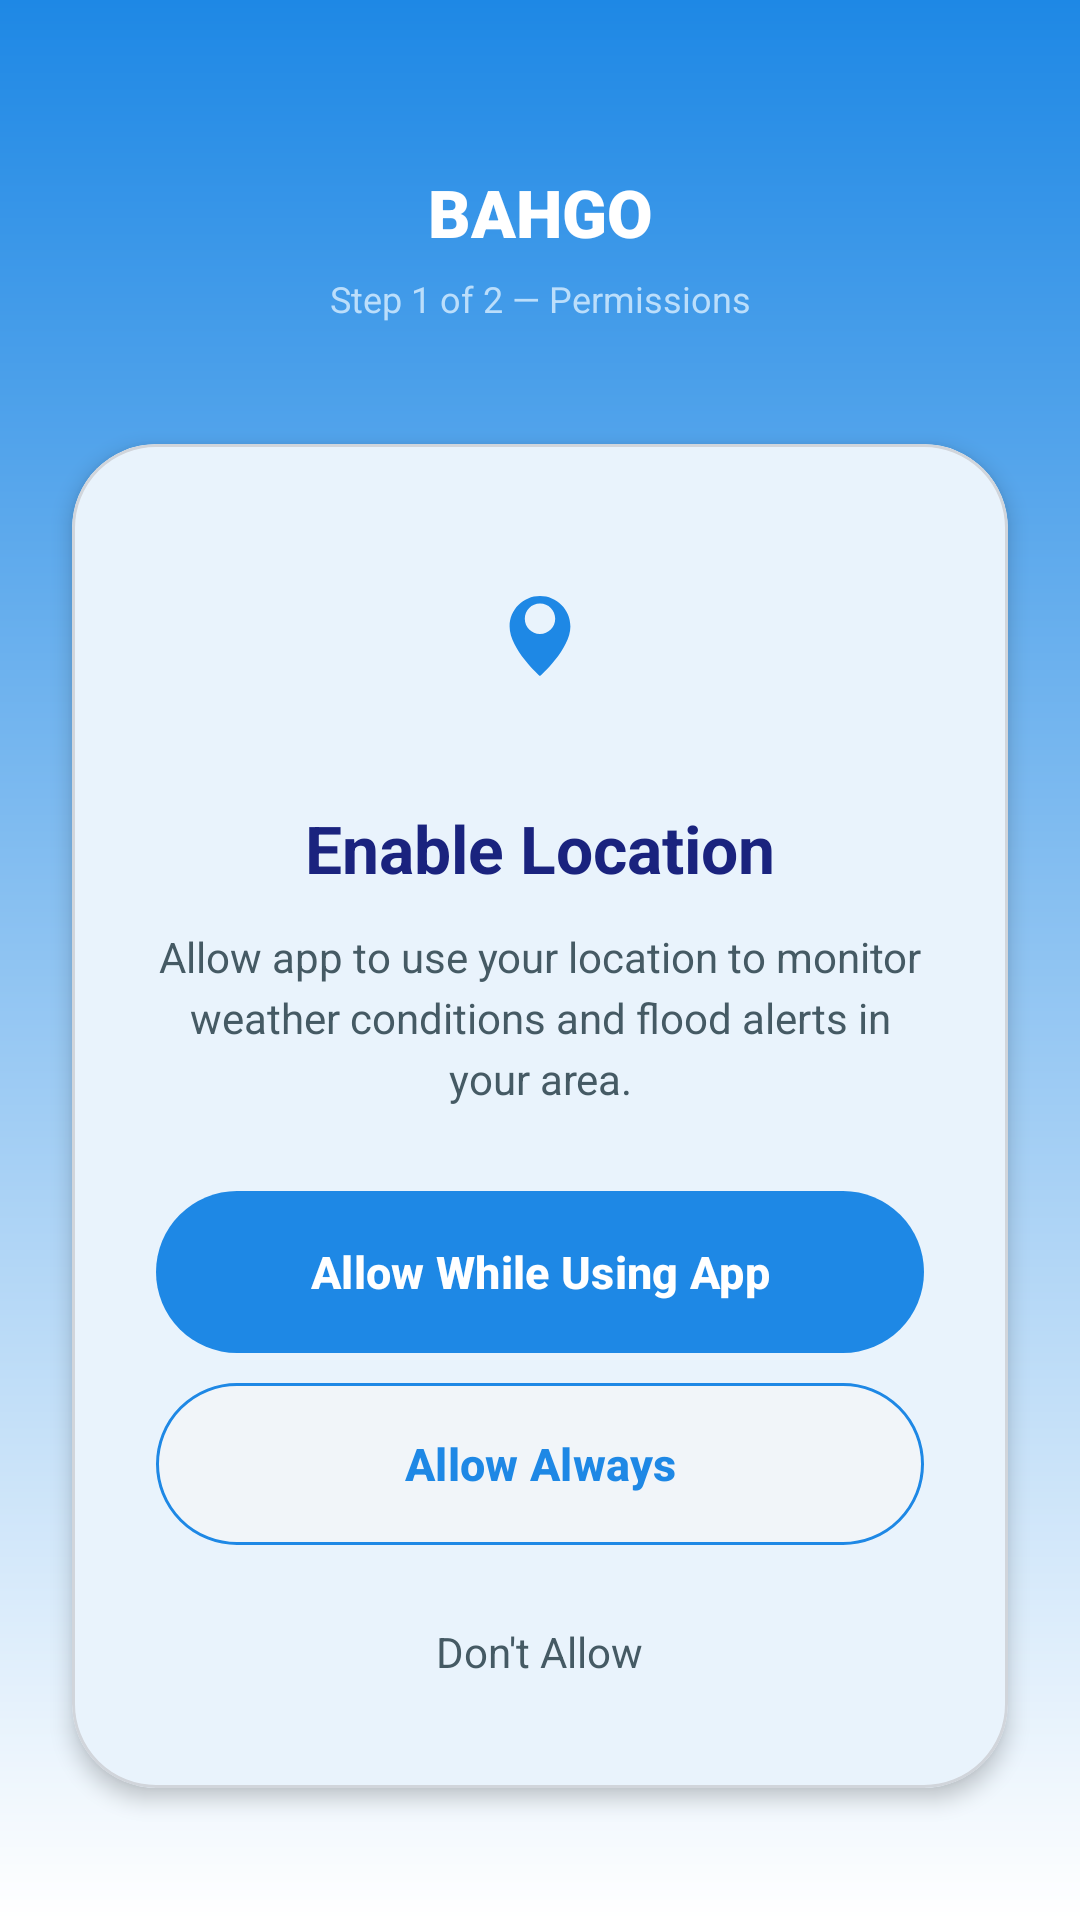

Where icons sit on this 1080x1920 app screen, as (x1, y1, x2, y2):
location pin: (509, 596, 571, 676)
